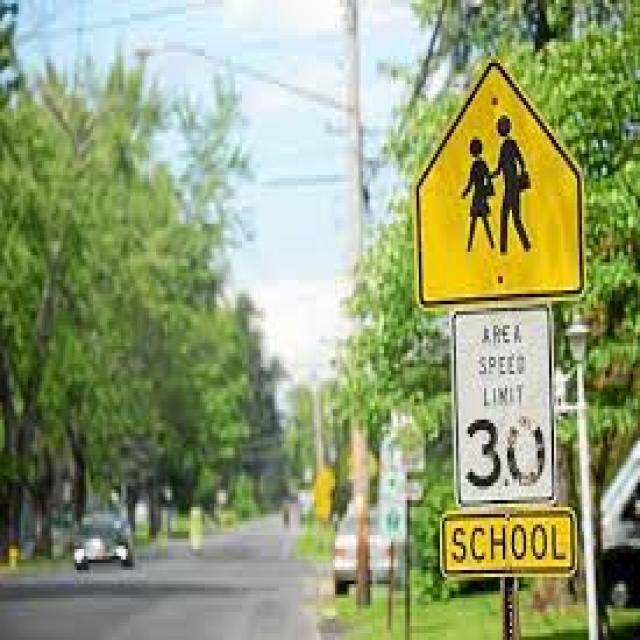speedLimit35: (455, 318, 550, 497)
